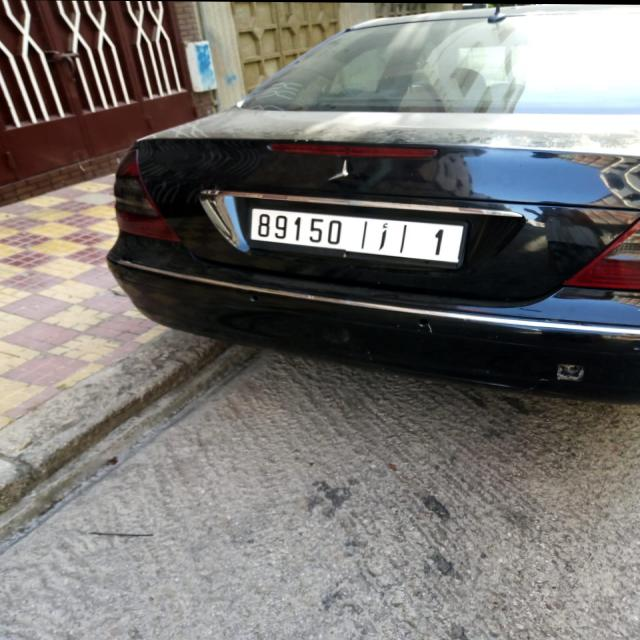License-Plate: (250, 208, 465, 262)
